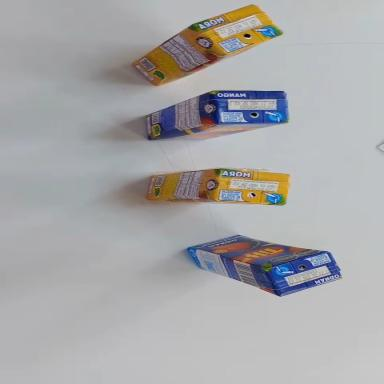HIT-MANGO: (181, 226, 346, 307), (141, 78, 290, 149)
HIT-MORA: (127, 0, 283, 95), (147, 168, 290, 205)
cara_F: (191, 226, 328, 279), (150, 110, 286, 150)
